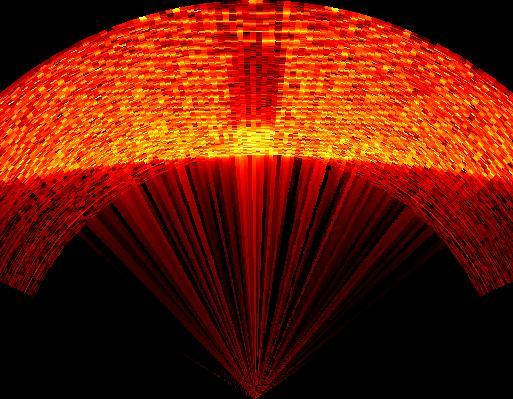box_crate: (224, 44, 291, 127)
